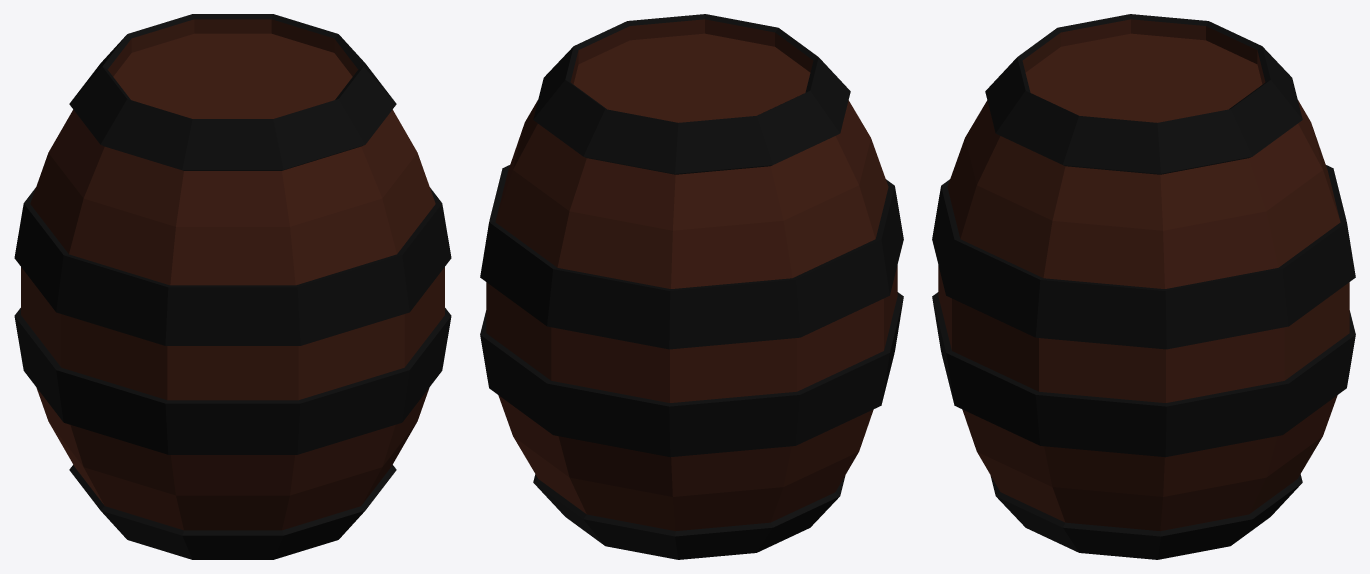
Rendered from Ab_Tonneau_A.FBX.
3 views of the same model, side by side, from view 1: azimuth 30°, elevation 25°; view 2: azimuth 150°, elevation 25°; view 3: azimuth 270°, elevation 25° (orthographic).
Visible parts, largest first — view 1: Sphere001; view 2: Sphere001; view 3: Sphere001.
Boxes of the visible parts, x1=… form: Sphere001: x1=14, y1=14, x2=451, y2=559; Sphere001: x1=480, y1=14, x2=903, y2=559; Sphere001: x1=932, y1=14, x2=1355, y2=559.
Bounding box in the file's own units: 73.32 × 82.07 × 72.12.
